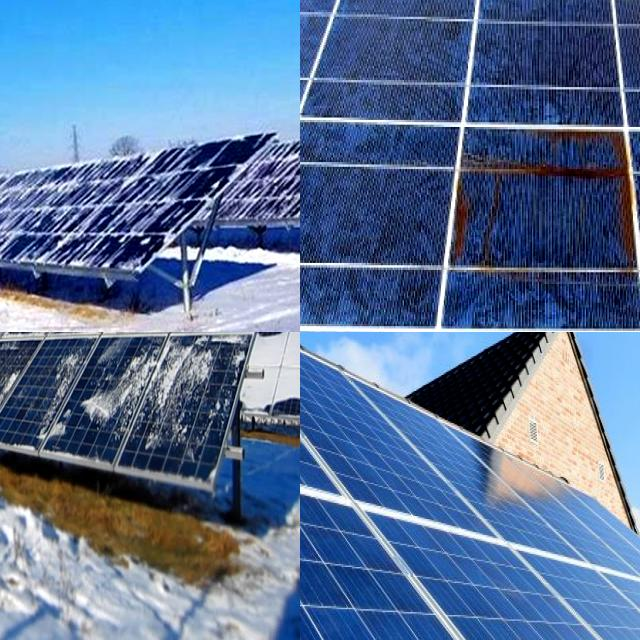crack: (300, 332, 640, 640)
panel: (86, 332, 162, 450), (166, 334, 216, 464), (35, 219, 147, 276), (40, 356, 81, 455), (140, 156, 211, 212), (42, 168, 147, 204), (184, 332, 271, 366), (0, 393, 56, 439), (261, 151, 300, 217), (0, 357, 27, 433), (0, 332, 27, 405), (0, 332, 69, 360), (0, 178, 45, 215), (83, 332, 121, 374), (0, 332, 58, 359), (117, 332, 182, 355), (0, 230, 43, 261), (0, 227, 42, 254), (0, 184, 25, 217), (203, 332, 241, 347), (0, 332, 11, 365)
shadow: (442, 107, 640, 290)
